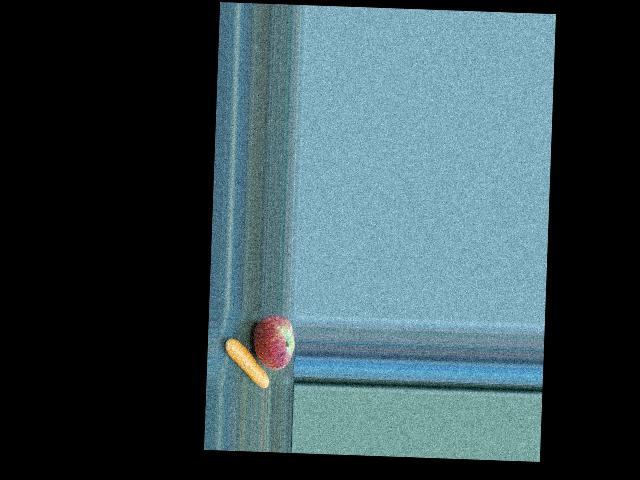carrot: (222, 331, 273, 388)
